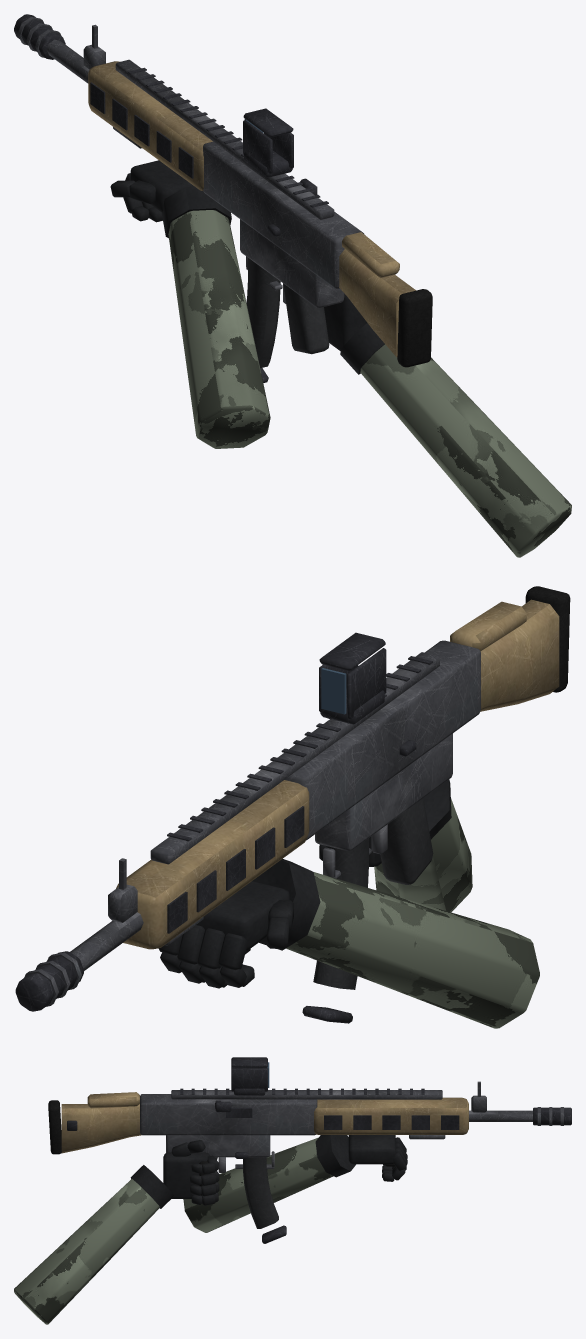
File: rifle_fp.glb
3 views of the same model, one above another, from view 1: azimuth 30°, elevation 25°; view 2: azimuth 150°, elevation 25°; view 3: azimuth 270°, elevation 25° (orthographic). The views are drawn at different scales.
Visible parts, largest first — view 1: arms, body, mag; view 2: body, arms, mag; view 3: body, arms, mag.
Boxes of the visible parts, x1,y1,x2,y2 form: arms: [110, 160, 571, 557]; body: [14, 14, 432, 367]; mag: [246, 258, 280, 382]; body: [15, 586, 570, 1011]; arms: [158, 779, 539, 1028]; mag: [302, 838, 368, 1023]; body: [48, 1057, 571, 1172]; arms: [14, 1135, 407, 1324]; mag: [243, 1157, 286, 1243].
Bounding box in the file's own units: 0.3623 × 0.4816 × 1.07.
Materials: 10 (8 with a texture image).
